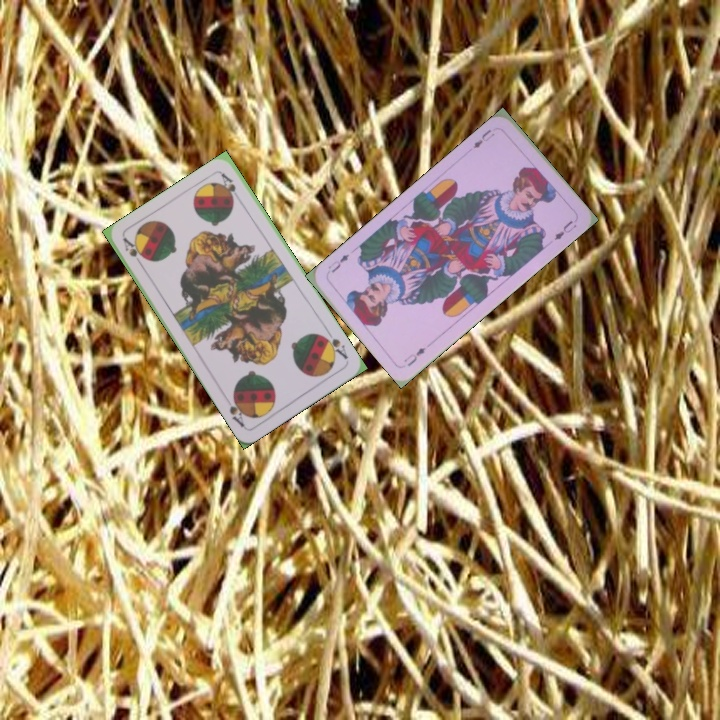EU: (469, 125, 497, 151), (400, 343, 428, 369)
SA: (318, 327, 351, 362), (119, 234, 146, 271)
